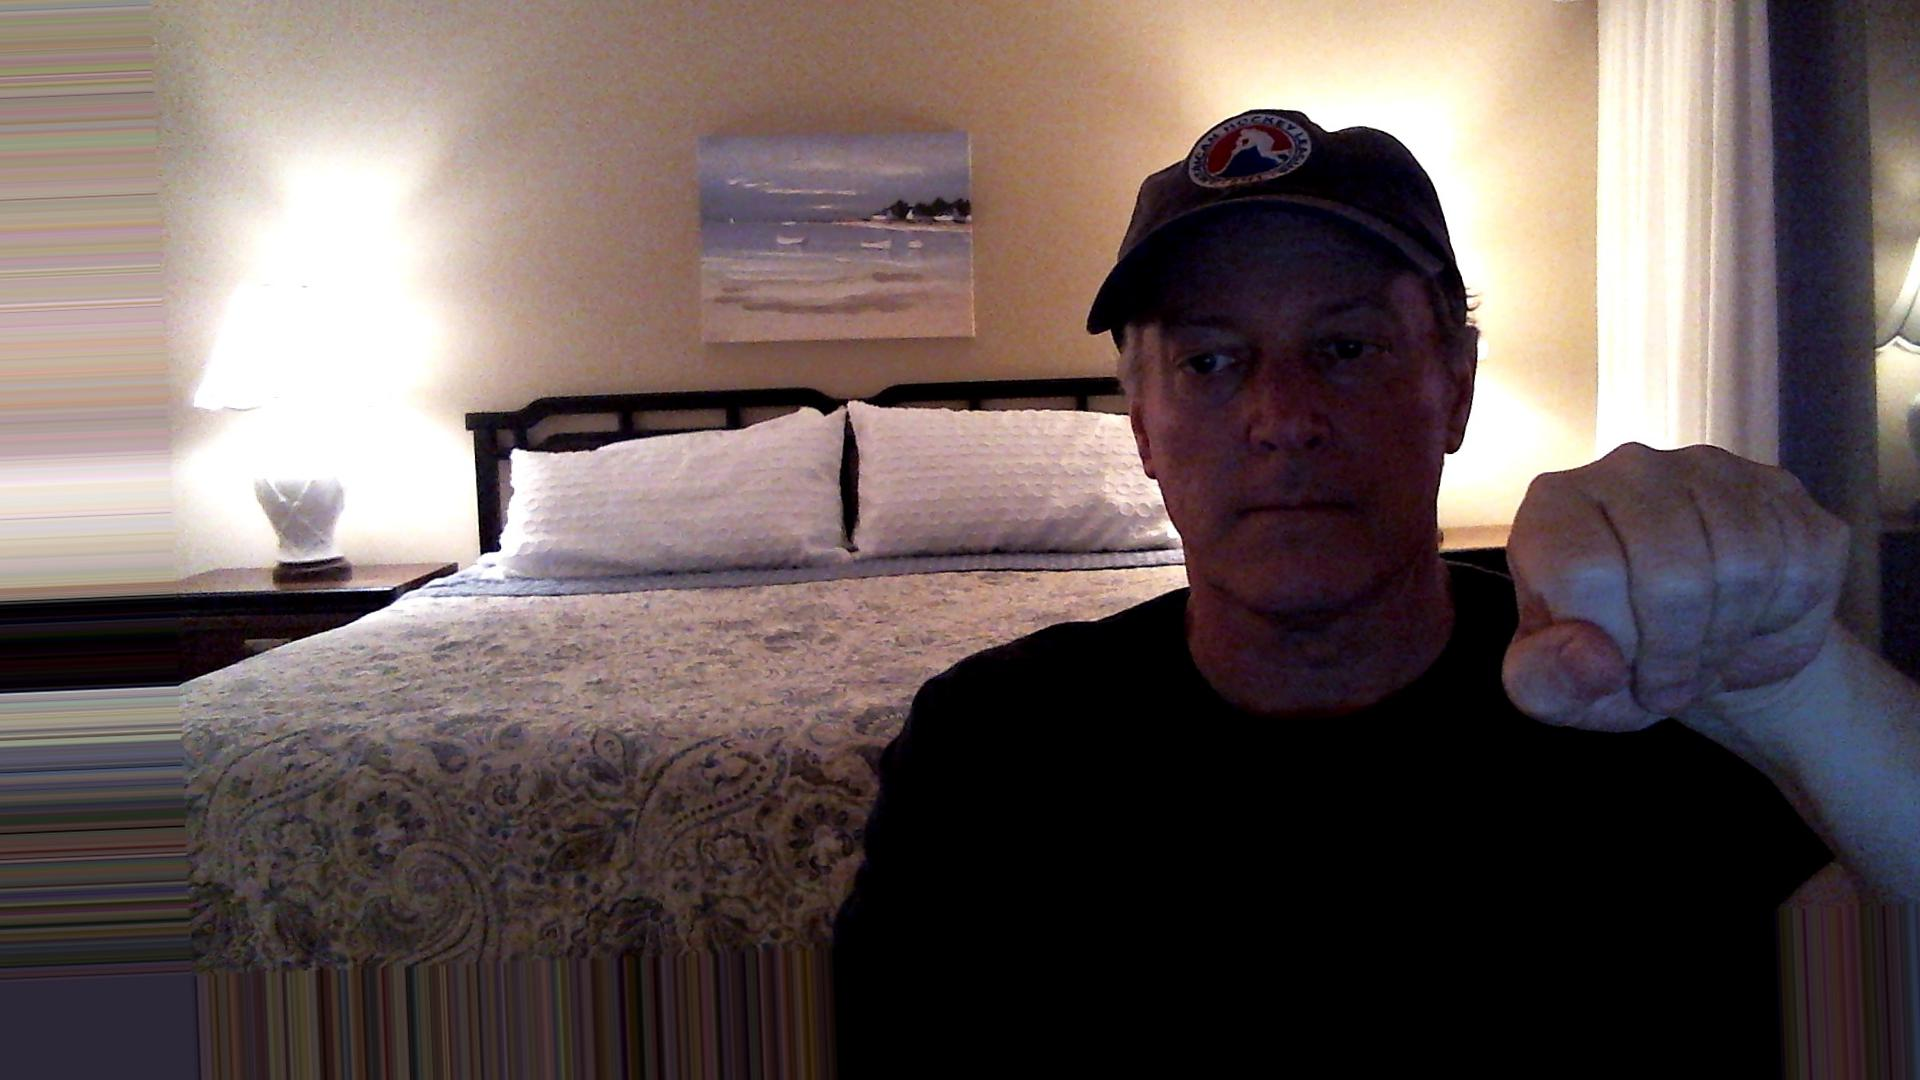Yes: (1466, 438, 1883, 744)
